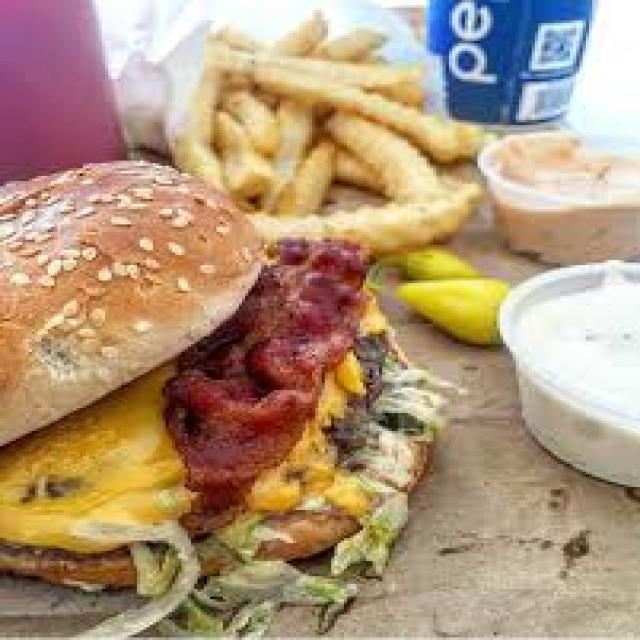Burger: (0, 154, 457, 610)
French Fries: (137, 5, 478, 255)
